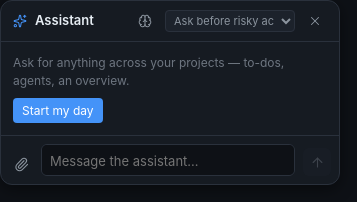
Test: AssistantPane › reports a failed send in the log instead of losing it
Step 1. Type "hi" into the text box labelled "Message the assistant" → (168, 160), box [41,144,295,176]
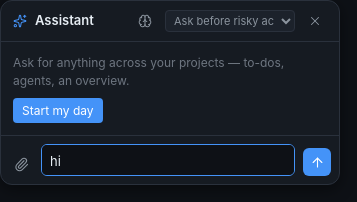
Step 2. Click the button named "Send" → (317, 162), box [303,148,331,176]
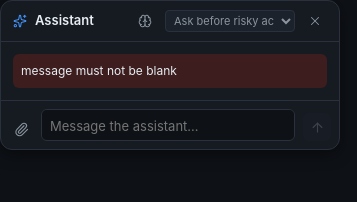
Check: the text "message must not be blank" is shown, box [13,54,327,88]
